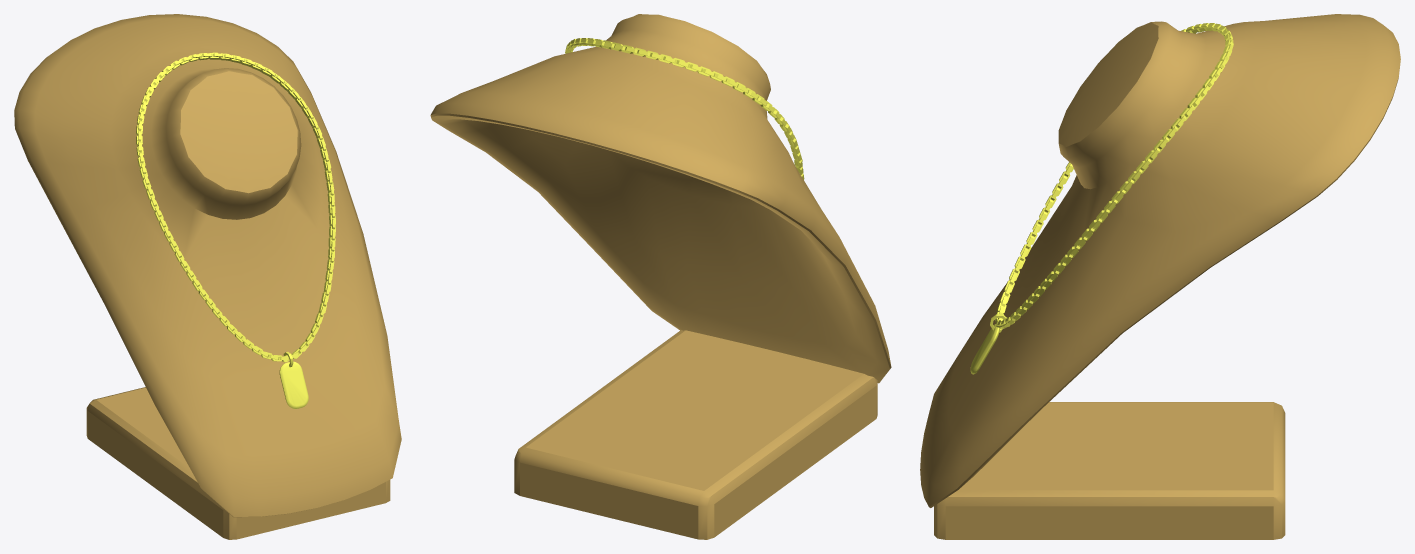
The model's file is Necklace_5.fbx.
3 views of the same model, side by side, from view 1: azimuth 30°, elevation 25°; view 2: azimuth 150°, elevation 25°; view 3: azimuth 270°, elevation 25° (orthographic). The views are drawn at different scales.
Visible parts, largest first — view 1: SM_Stand_Necklace_7, SM_Necklace_7, SM_Cullon_9; view 2: SM_Stand_Necklace_7, SM_Necklace_7; view 3: SM_Stand_Necklace_7, SM_Necklace_7, SM_Cullon_9.
Boxes of the visible parts, <box> form: SM_Stand_Necklace_7: <box>14,14,401,539</box>; SM_Necklace_7: <box>136,52,335,362</box>; SM_Cullon_9: <box>279,352,308,408</box>; SM_Stand_Necklace_7: <box>430,14,891,539</box>; SM_Necklace_7: <box>565,38,804,179</box>; SM_Stand_Necklace_7: <box>920,14,1400,539</box>; SM_Necklace_7: <box>995,23,1233,328</box>; SM_Cullon_9: <box>970,314,1006,374</box>.
Size of the model in its own units: 22.51 by 29.29 by 27.78.
